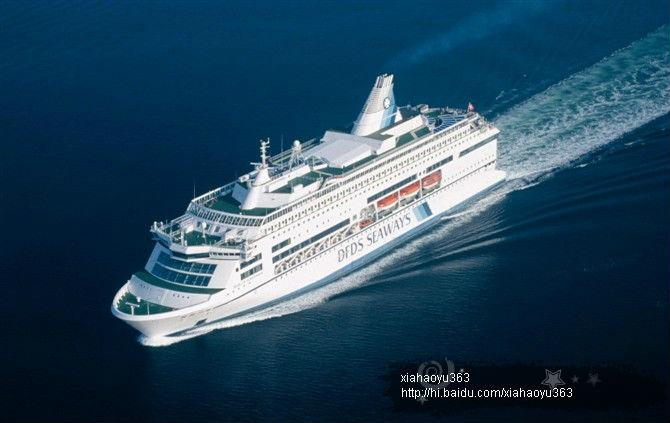youlun: (104, 72, 510, 339)
